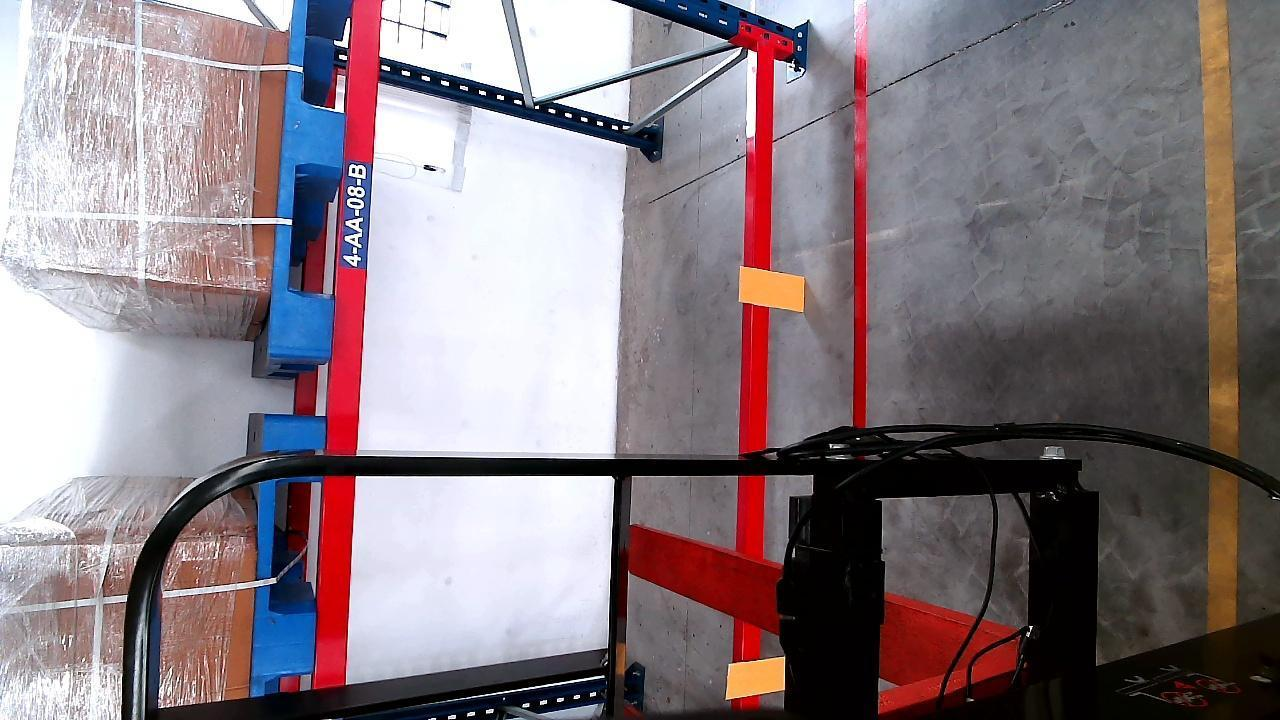h_rack: (319, 1, 380, 686), (733, 39, 775, 712)
orange_strip: (741, 267, 806, 309), (728, 655, 785, 699)
red_line: (848, 5, 872, 427)
small_pallet: (270, 4, 355, 361), (254, 421, 326, 689)
yellow_line: (1196, 0, 1240, 640)
